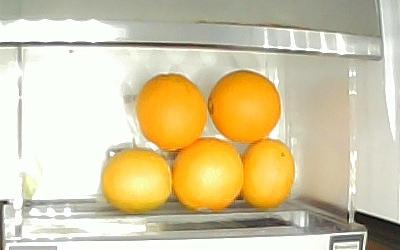orange: (207, 69, 281, 145), (137, 73, 207, 152), (171, 136, 243, 212), (102, 148, 171, 214), (241, 140, 296, 209)
